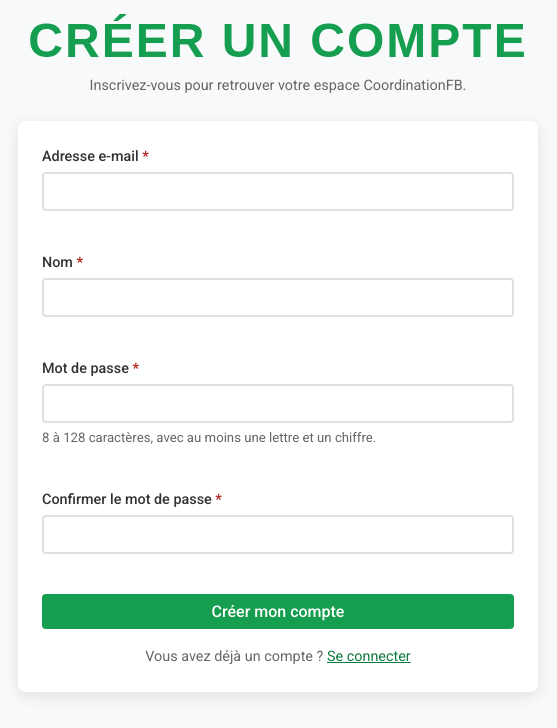
PageAuthentification › valide les champs de l’inscription avant l’envoi
This screenshot has width=557, height=728.
Click the button "Créer mon compte" at coordinates (278, 612), box [42, 594, 514, 629]
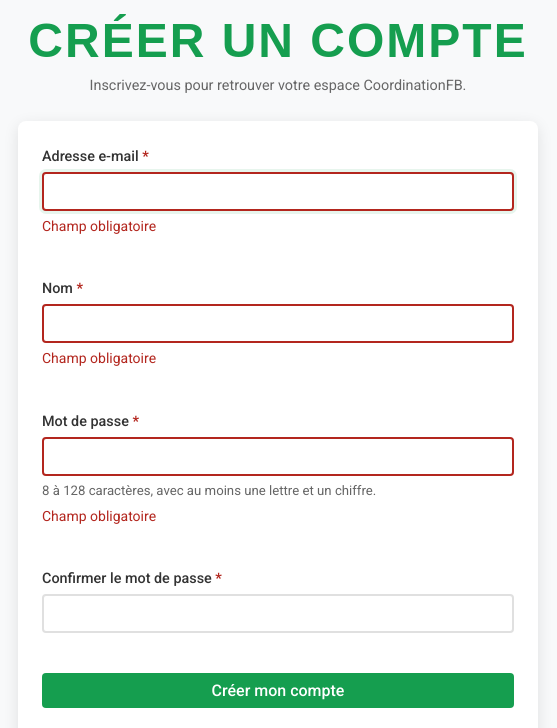
Expected: the text "Champ obligatoire" is shown 3 times, [42, 218, 156, 234]; [42, 350, 156, 366]; [42, 508, 156, 524]
